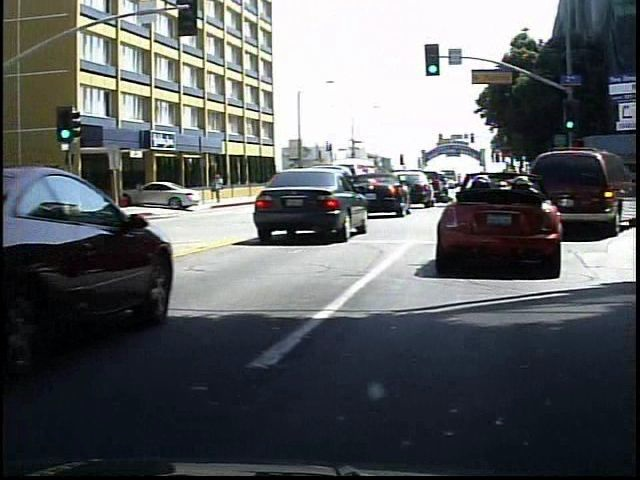person: (204, 169, 222, 203)
